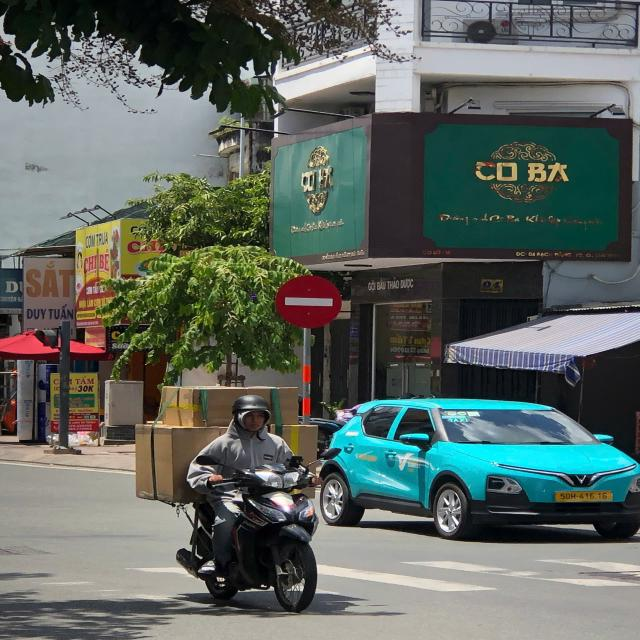Bien bao cam di nguoc chieu: (263, 268, 356, 334)
